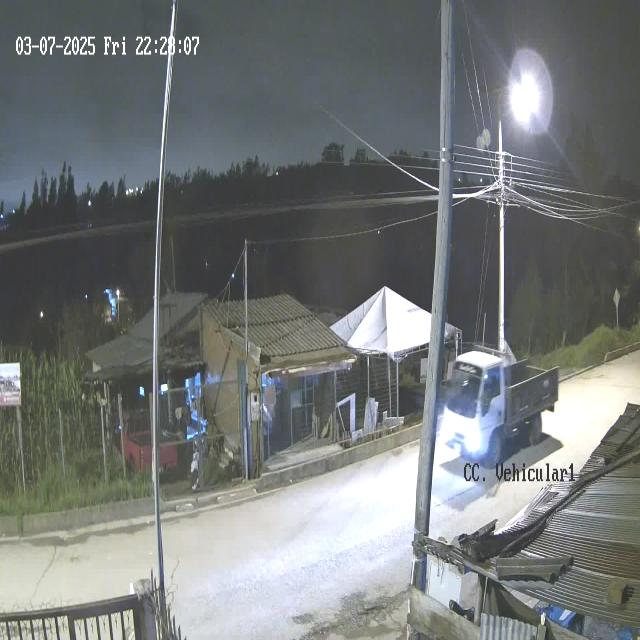TRUCK: (439, 346, 561, 469)
